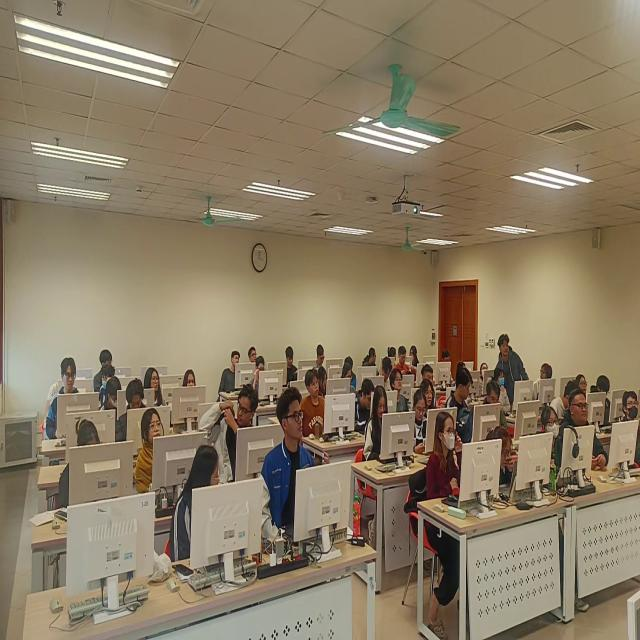raise_head: (271, 392, 317, 528), (431, 422, 464, 550), (136, 410, 178, 492), (561, 393, 602, 469), (49, 358, 86, 439), (539, 407, 569, 481), (302, 373, 332, 436), (617, 393, 640, 464), (219, 350, 250, 397), (177, 368, 204, 411), (144, 368, 166, 410), (392, 372, 412, 408), (422, 382, 439, 409), (247, 346, 260, 367), (577, 374, 590, 394), (480, 362, 491, 381)
stand: (497, 335, 530, 410)
using_computer: (61, 422, 117, 510), (366, 386, 399, 478), (482, 434, 522, 500), (119, 383, 148, 440), (481, 383, 511, 437), (247, 357, 277, 405), (591, 378, 620, 420), (354, 382, 374, 431), (102, 382, 124, 424), (282, 346, 302, 387), (340, 363, 356, 400), (393, 347, 412, 375), (312, 347, 334, 371), (380, 360, 393, 389)
using_phone: (409, 393, 433, 456)
